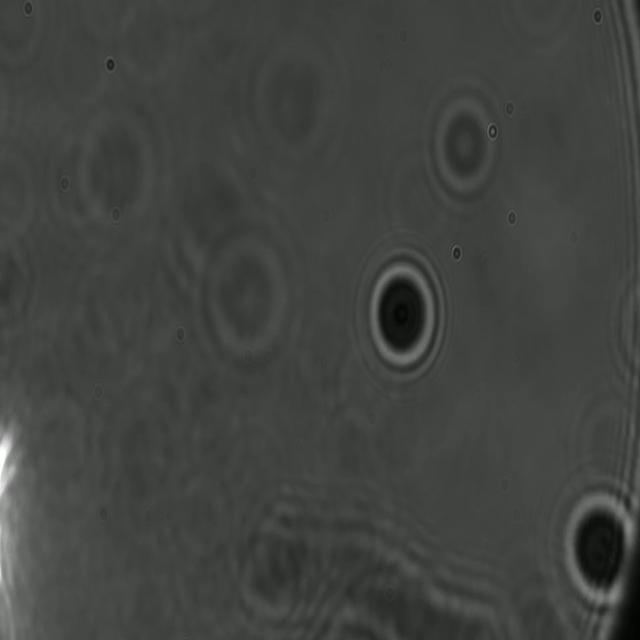DCELL: (360, 243, 448, 386)
